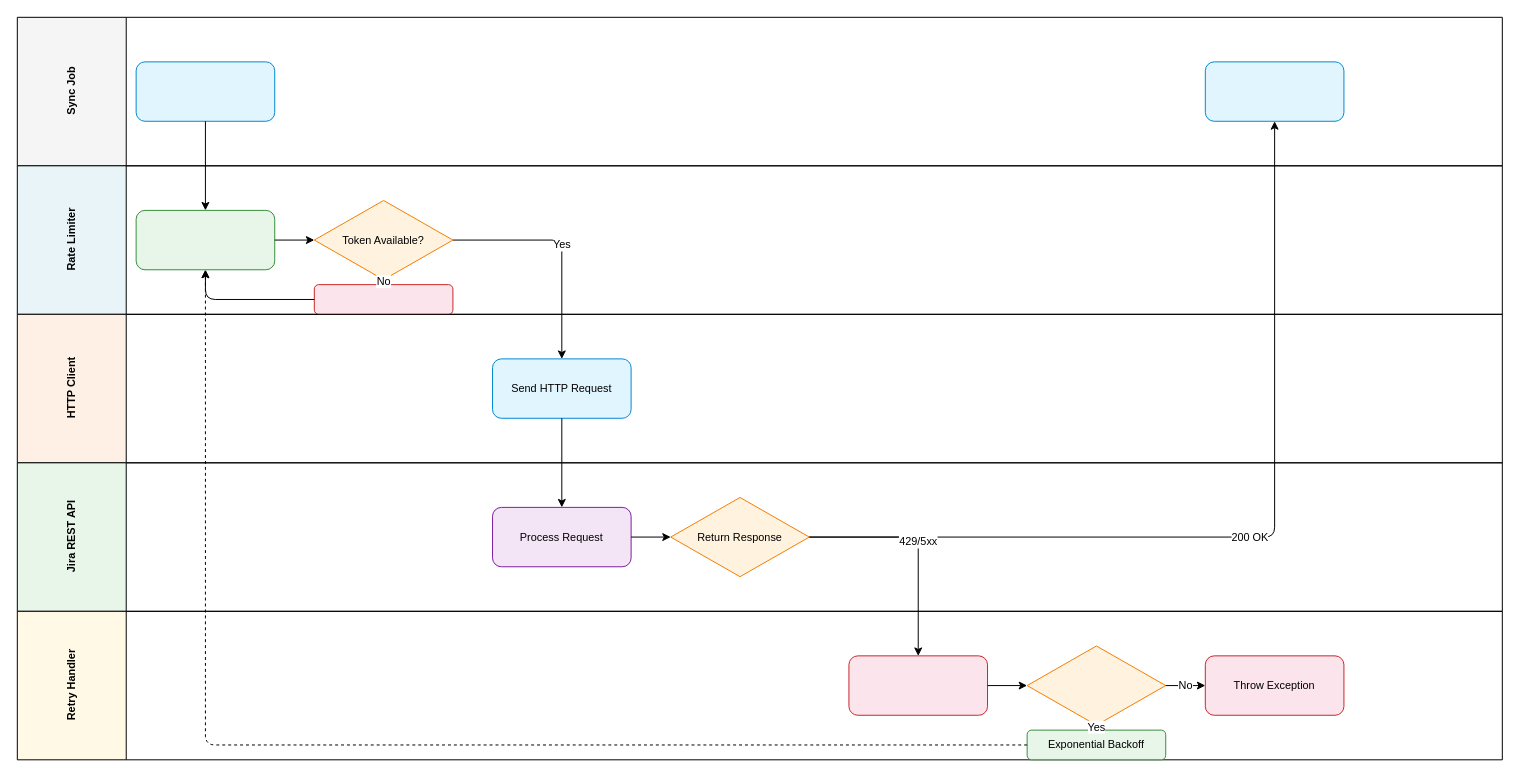
Some shapes in this 1520 by 777 pixel diagram are drawn without their labels. Each missing label, with the centre of its shape:
"Acquire Token" goes at [205,239].
"Evaluate Error" goes at [918,685].
"Initiate API Call" goes at [205,91].
"Receive Response" goes at [1274,91].
"Retryable?" goes at [1096,685].
"Wait for Refill" goes at [383,299].
